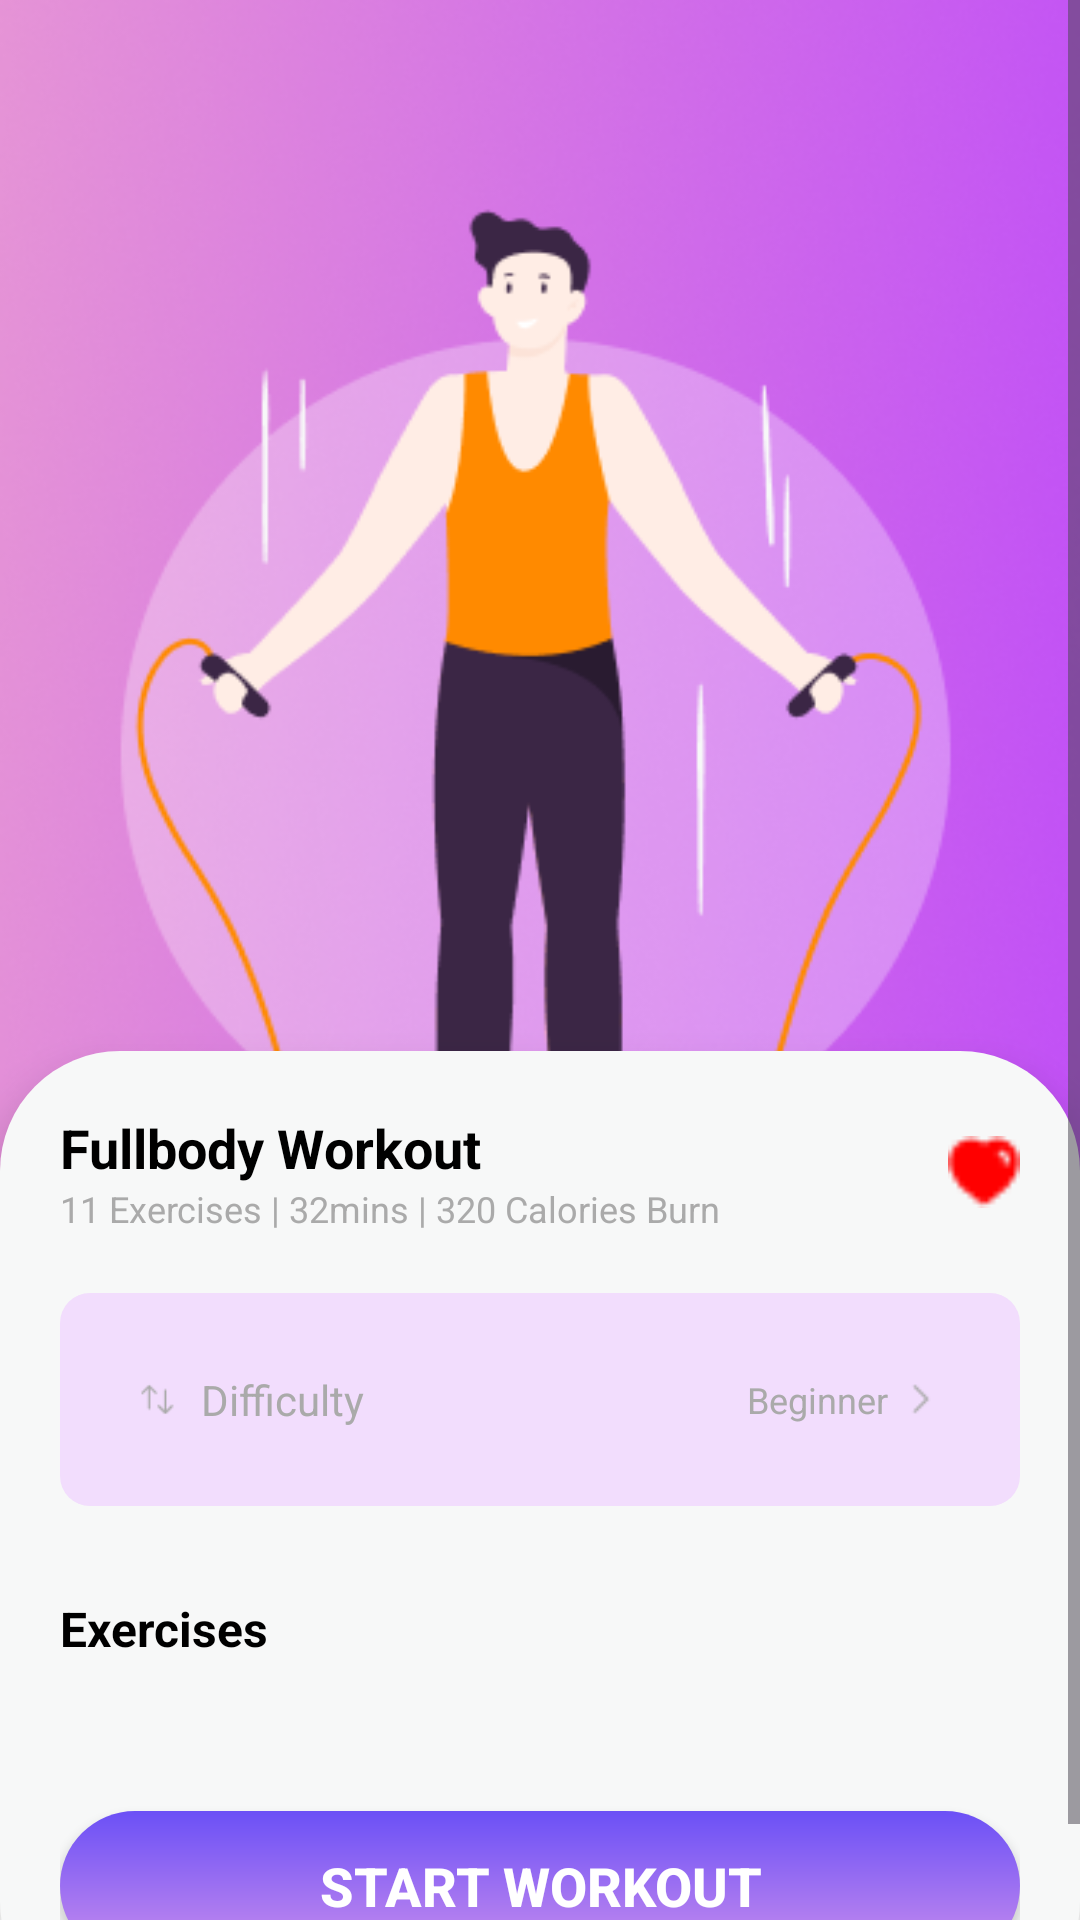

Locate icon controls on the screen. Image size 1080 x 1920, boxes as (x1, y1, x2, y2).
chevron right: (913, 1385, 929, 1413)
heart: (948, 1136, 1020, 1208)
